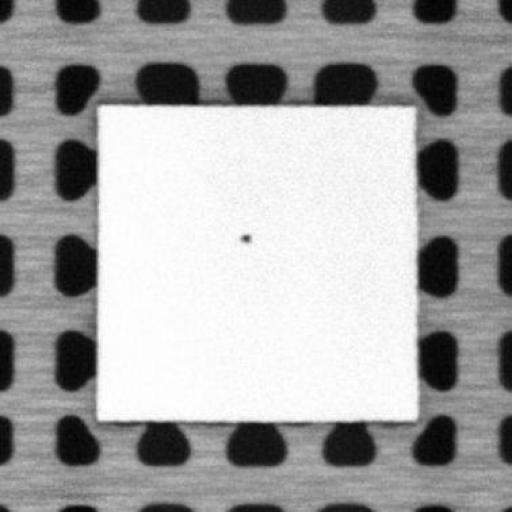DIE_INK: (237, 230, 252, 244)
